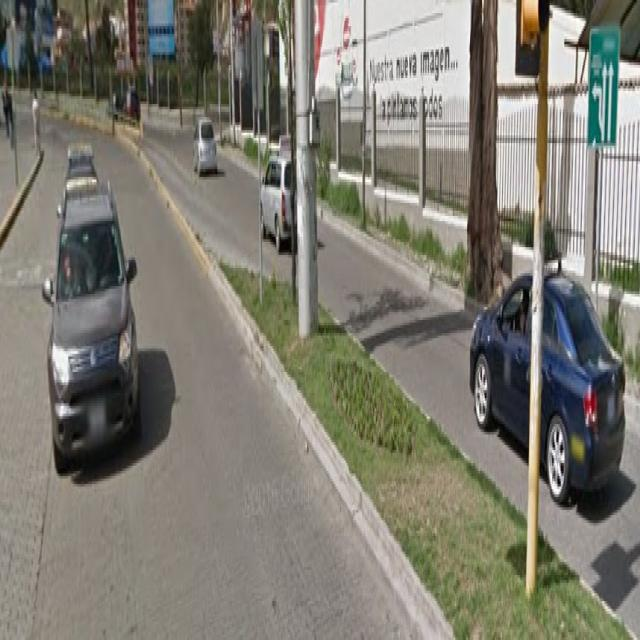Car: (475, 217, 624, 497), (47, 156, 144, 457), (264, 147, 298, 269), (194, 118, 218, 194)
